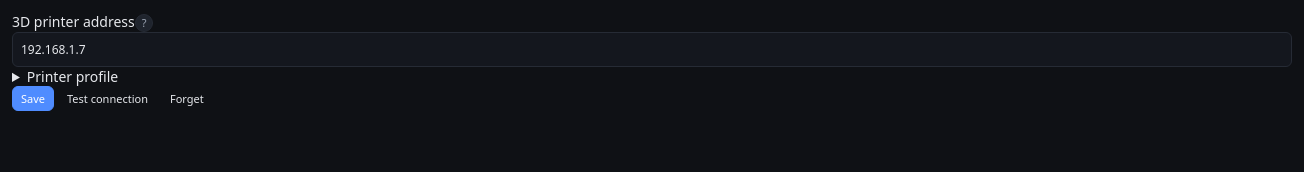
PrinterSettings › the printer address › tests the address in the box rather than the saved one
Replace the text in the field labelled "3D printer address" with "192.168.1.99" at (652, 49), box [12,32,1292,66]
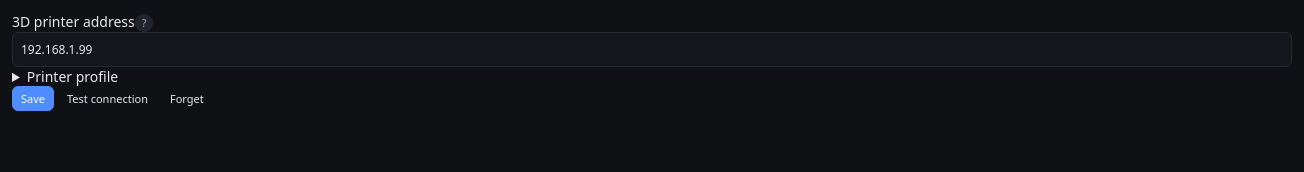
Click the button "Test connection" at (107, 98), box [58,86,157,110]
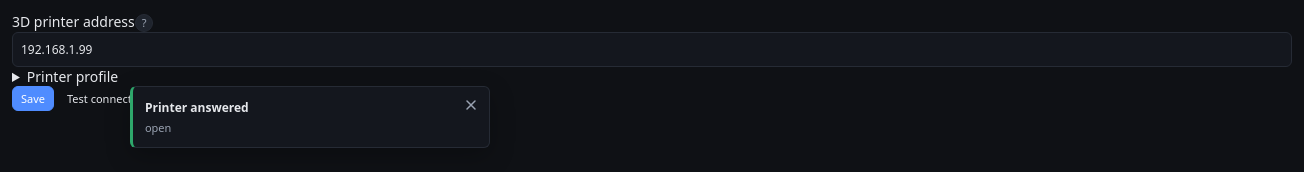
Now the text "Printer answered" is shown, box [145,98,249,116]
